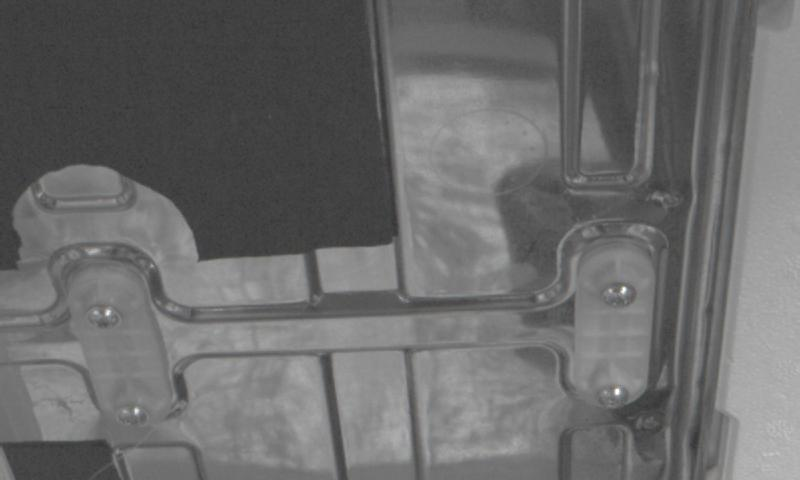vida-ok: (594, 274, 644, 317), (108, 396, 158, 435), (81, 299, 130, 337), (590, 374, 638, 412)
